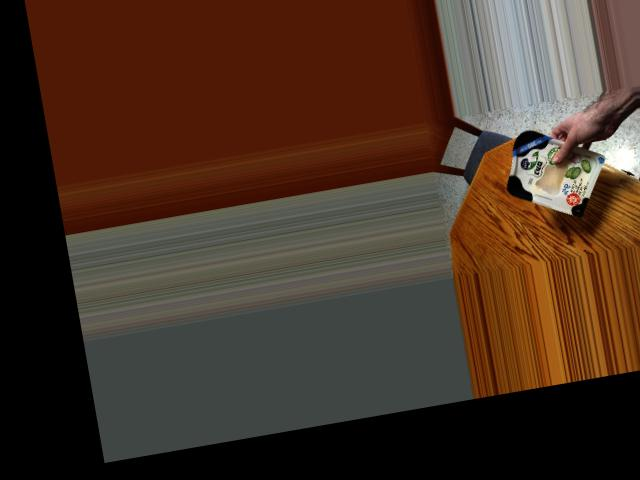cheese: (500, 122, 601, 222)
